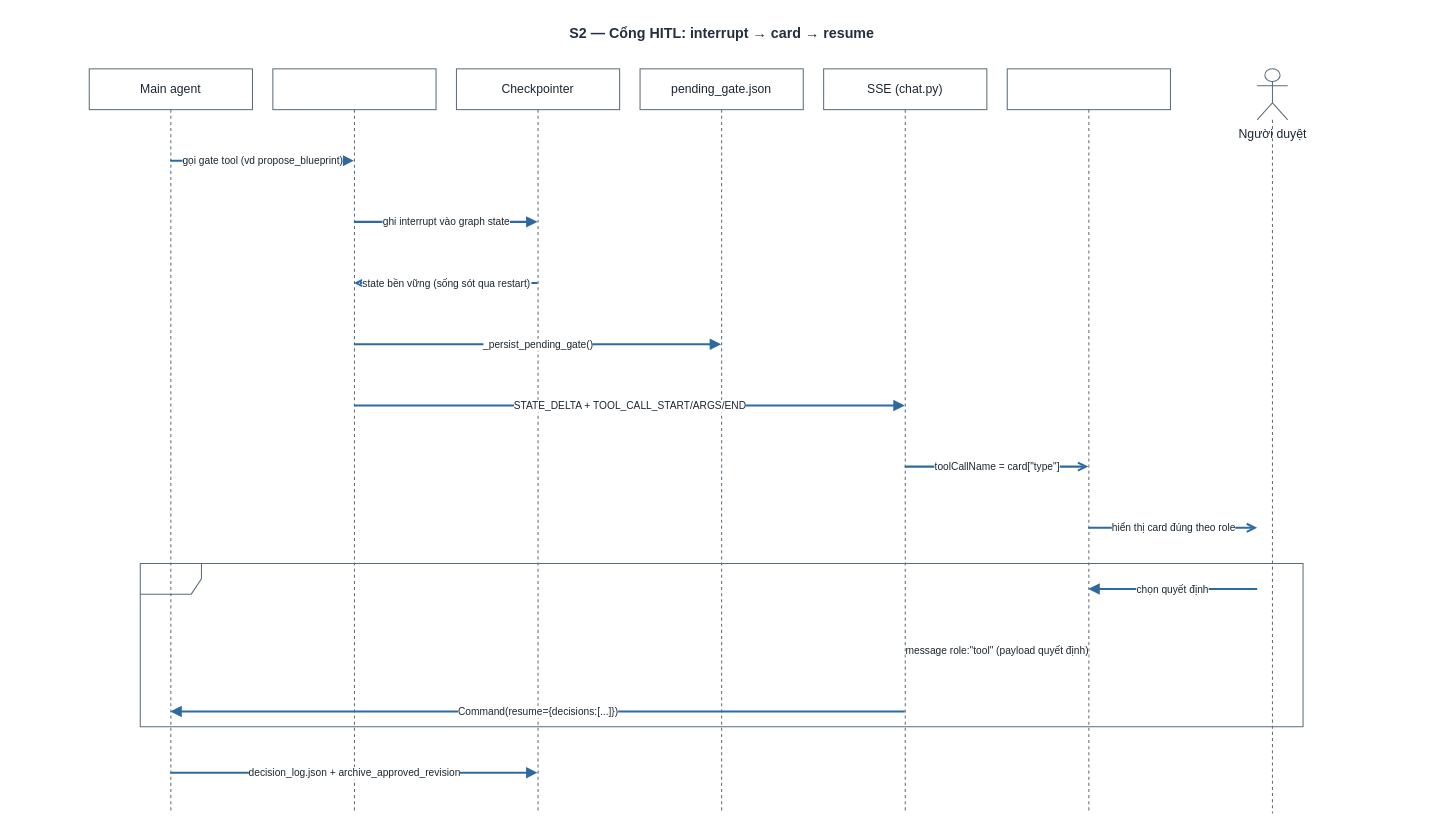
Some shapes in this 1442 by 832 pixel diagram are drawn without their labels. The box of each missing label's shape, as (x1, y1, x2, y2) in pixels:
alt [proceed (approve*) ⟷ revise (reject*)]: (139, 563, 1303, 727)
GateHost (FE): (1006, 68, 1170, 813)
HumanInTheLoop MW: (272, 68, 436, 813)
